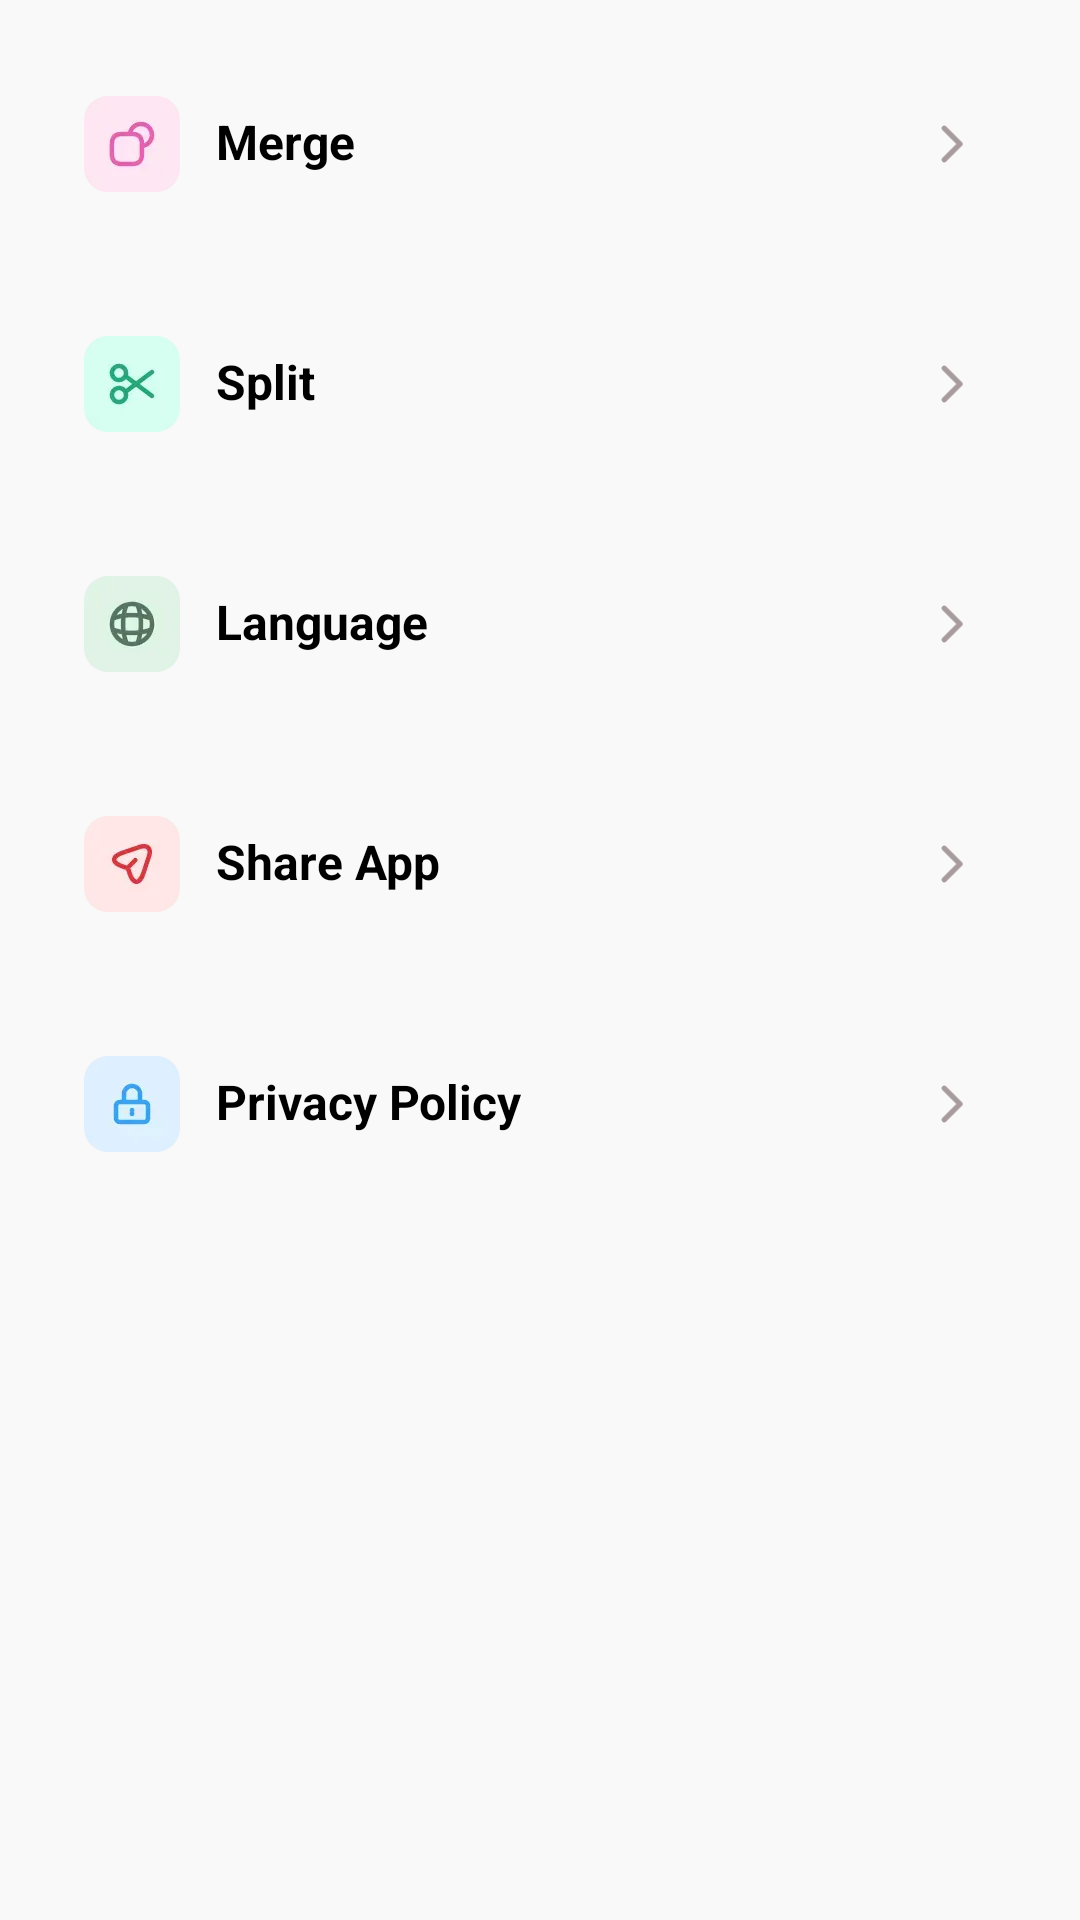

Screen size 1080px×1920px. Icon name, then its box in pixels as (x1, y1, x2, y2):
arrow right: (941, 125, 963, 163), (941, 365, 963, 403), (941, 605, 963, 643), (941, 845, 963, 883), (941, 1085, 963, 1123)
settings privacy: (84, 1056, 180, 1152)
settings share: (111, 843, 153, 885)
